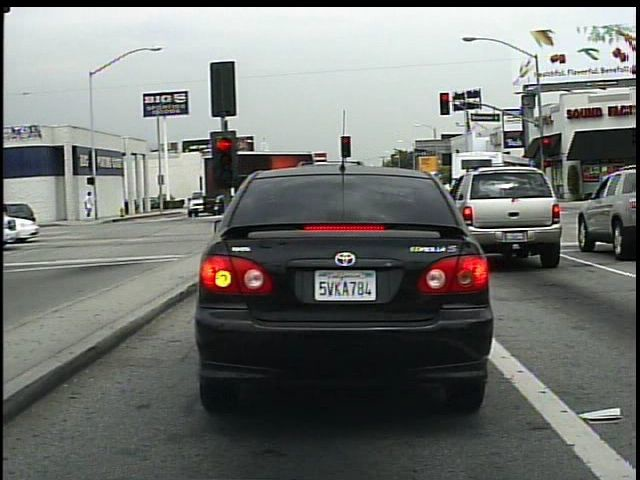person: (82, 189, 95, 221)
